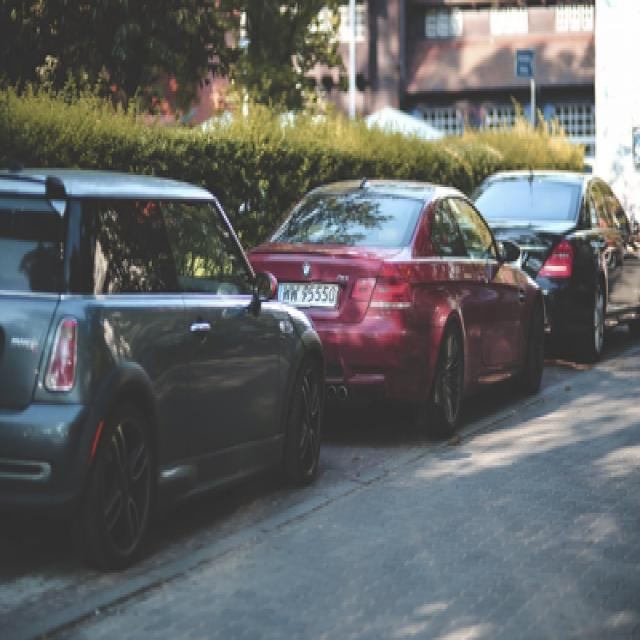licence: (278, 271, 341, 311)
